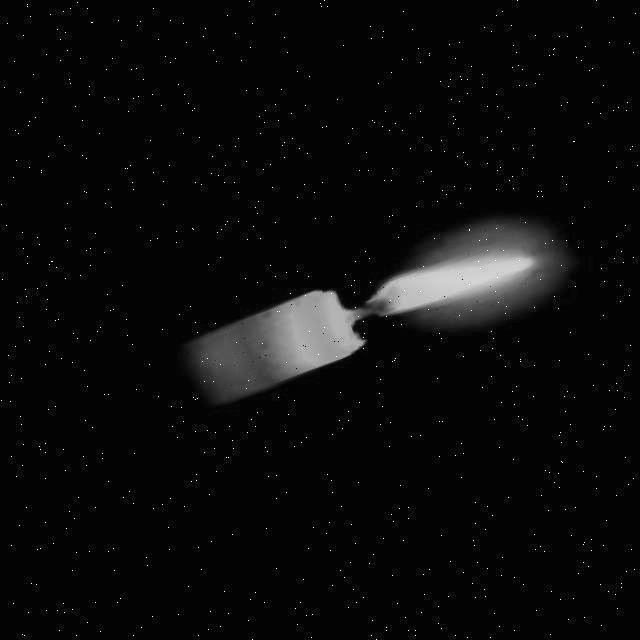Fire: (358, 235, 536, 329)
